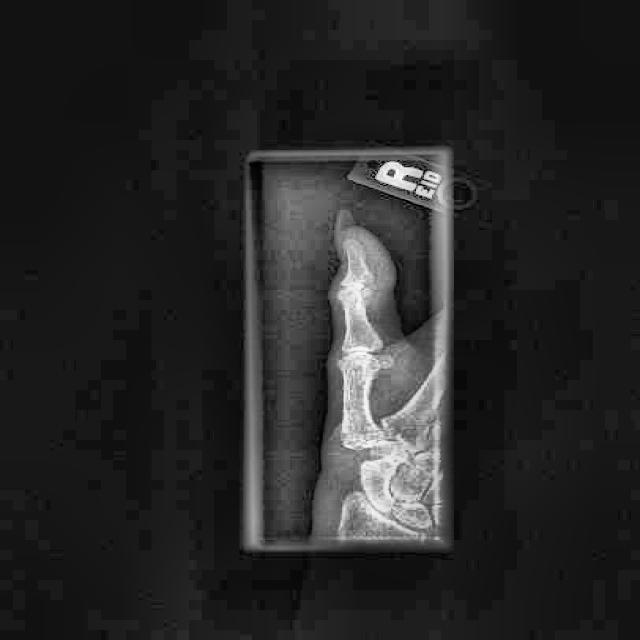fingers positive: (332, 416, 386, 475)
